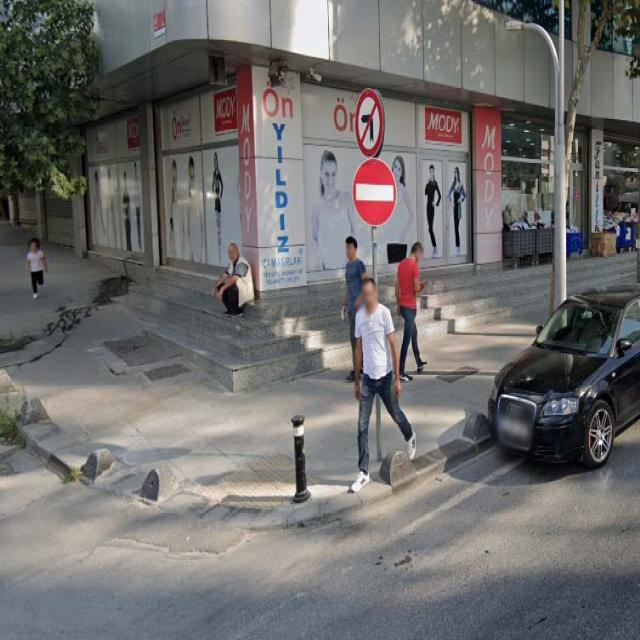girisyok: (352, 159, 397, 225)
soladonulmez: (355, 90, 384, 156)
